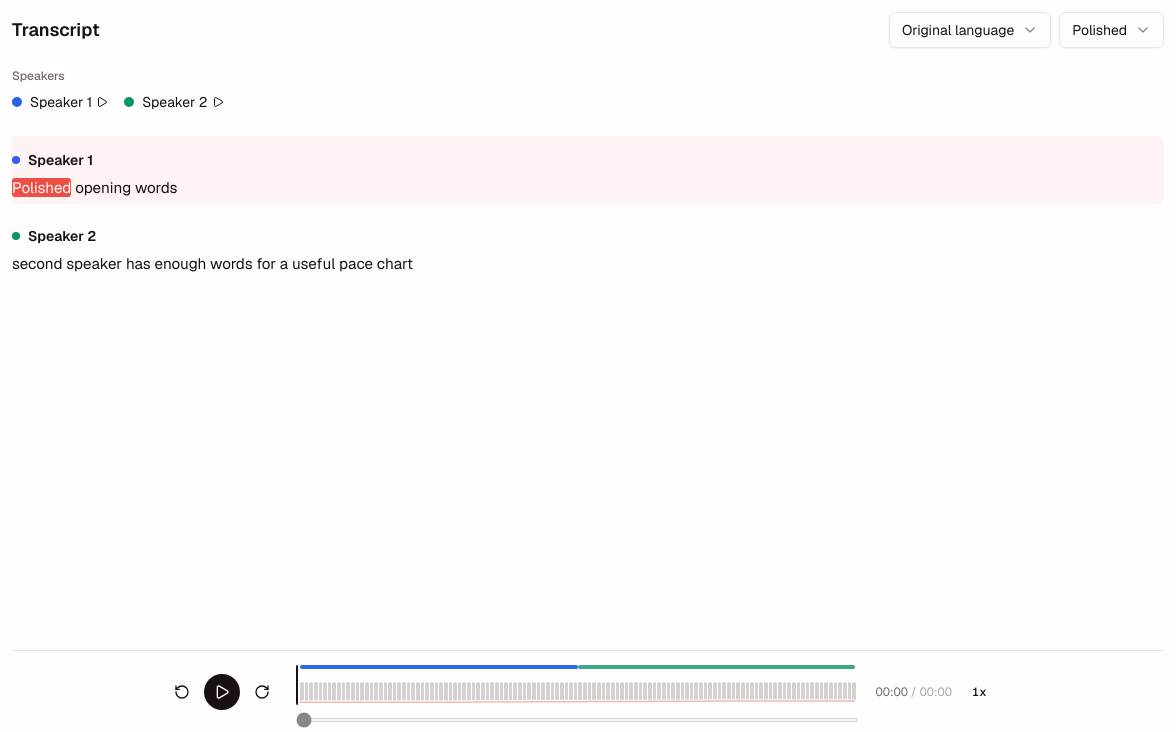
Test: TranscriptViewer interactions › reports playback rejection instead of leaving the player looking healthy
Click the text "opening": (103, 188) [75,178,131,197]
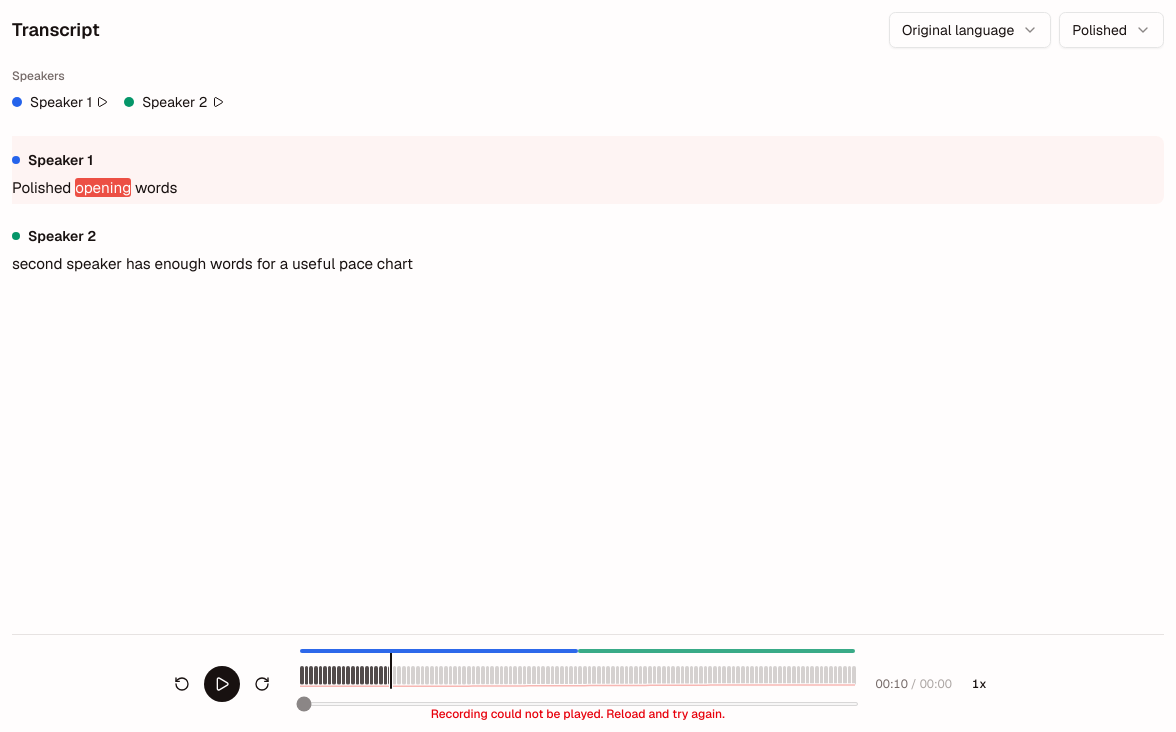
Expected: the message reads "Recording could not be played. Reload and try again.", [431,706,725,722]
